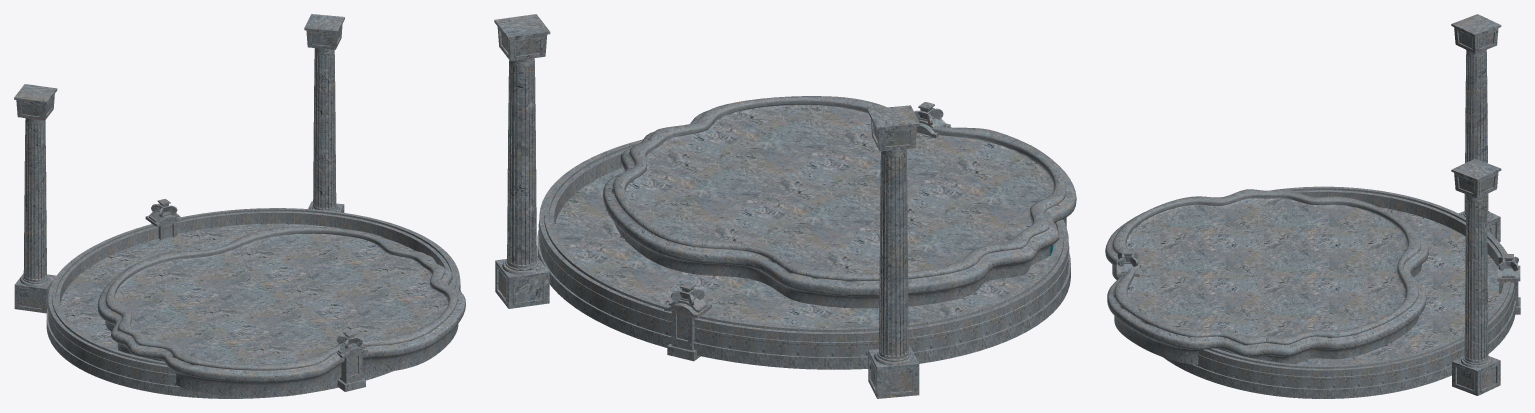
File: 0016_Bountain01NewNew.obj
The picture shows the model from 3 angles, left to right: view 1: azimuth 30°, elevation 25°; view 2: azimuth 150°, elevation 25°; view 3: azimuth 270°, elevation 25°; orthographic projection. The views are drawn at different scales.
Visible parts, largest first — view 1: pool_Mesh.011, pilar1_Mesh.013, pilar_Mesh.012, buildingRender:building:lamp18_Mesh.006, lamp18_Mesh.005; view 2: pool_Mesh.011, pilar_Mesh.012, pilar1_Mesh.013, lamp18_Mesh.005, buildingRender:building:lamp18_Mesh.006; view 3: pool_Mesh.011, pilar_Mesh.012, pilar1_Mesh.013, lamp18_Mesh.005, buildingRender:building:lamp18_Mesh.006.
Part boxes in pixels (<box>): pool_Mesh.011: <box>46,208,465,398</box>; pilar1_Mesh.013: <box>14,84,57,313</box>; pilar_Mesh.012: <box>304,14,344,212</box>; buildingRender:building:lamp18_Mesh.006: <box>331,330,368,391</box>; lamp18_Mesh.005: <box>145,199,182,239</box>; pool_Mesh.011: <box>537,96,1076,369</box>; pilar_Mesh.012: <box>494,14,550,308</box>; pilar1_Mesh.013: <box>867,105,919,398</box>; lamp18_Mesh.005: <box>664,282,711,361</box>; buildingRender:building:lamp18_Mesh.006: <box>914,102,950,138</box>; pool_Mesh.011: <box>1105,186,1515,398</box>; pilar_Mesh.012: <box>1451,158,1501,395</box>; pilar1_Mesh.013: <box>1451,14,1501,242</box>; lamp18_Mesh.005: <box>1497,254,1520,314</box>; buildingRender:building:lamp18_Mesh.006: <box>1116,249,1139,278</box>.
Bounding box in the file's own units: 301 × 164 × 285.
2 materials, 2 textured.
